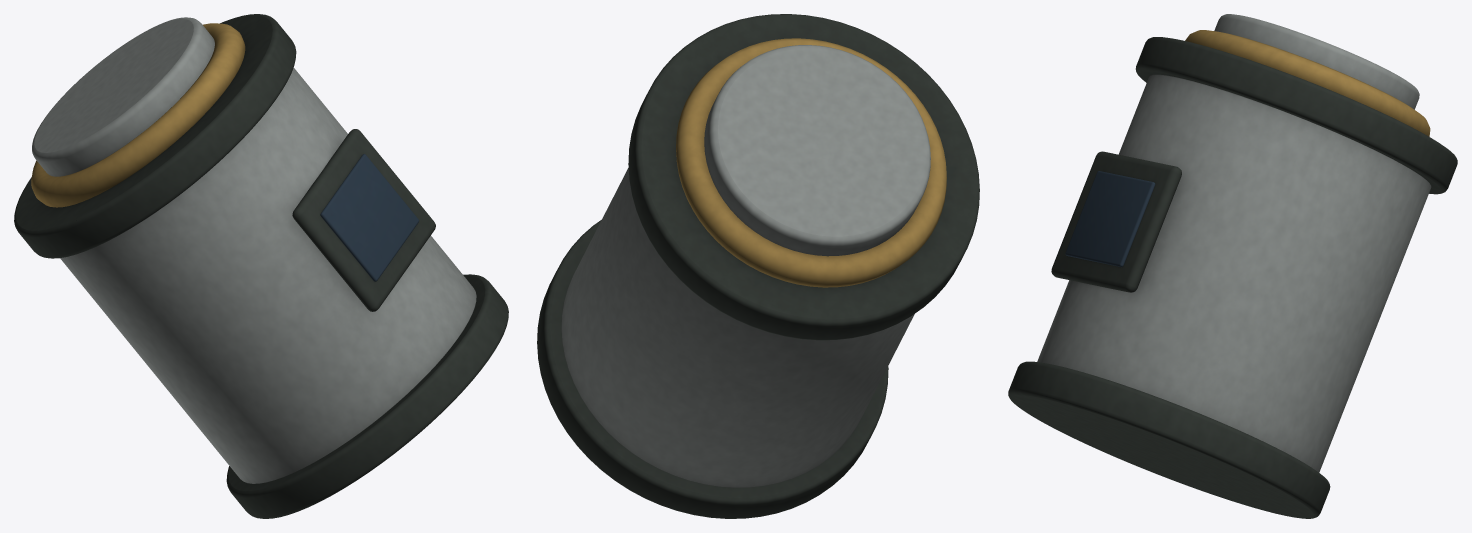
3 renders of one model, left to right at view 1: azimuth 30°, elevation 25°; view 2: azimuth 150°, elevation 25°; view 3: azimuth 270°, elevation 25°, orthographic. The views are drawn at different scales.
Visible parts, largest first — view 1: Pressure shell; view 2: Pressure shell; view 3: Pressure shell.
Boxes of the visible parts, x1,y1,x2,y2 form: Pressure shell: (14, 14, 508, 518); Pressure shell: (537, 14, 979, 518); Pressure shell: (1008, 14, 1457, 518).
Size of the model in its own units: 1.2 by 1.28 by 1.13.
1 material, 1 textured.
